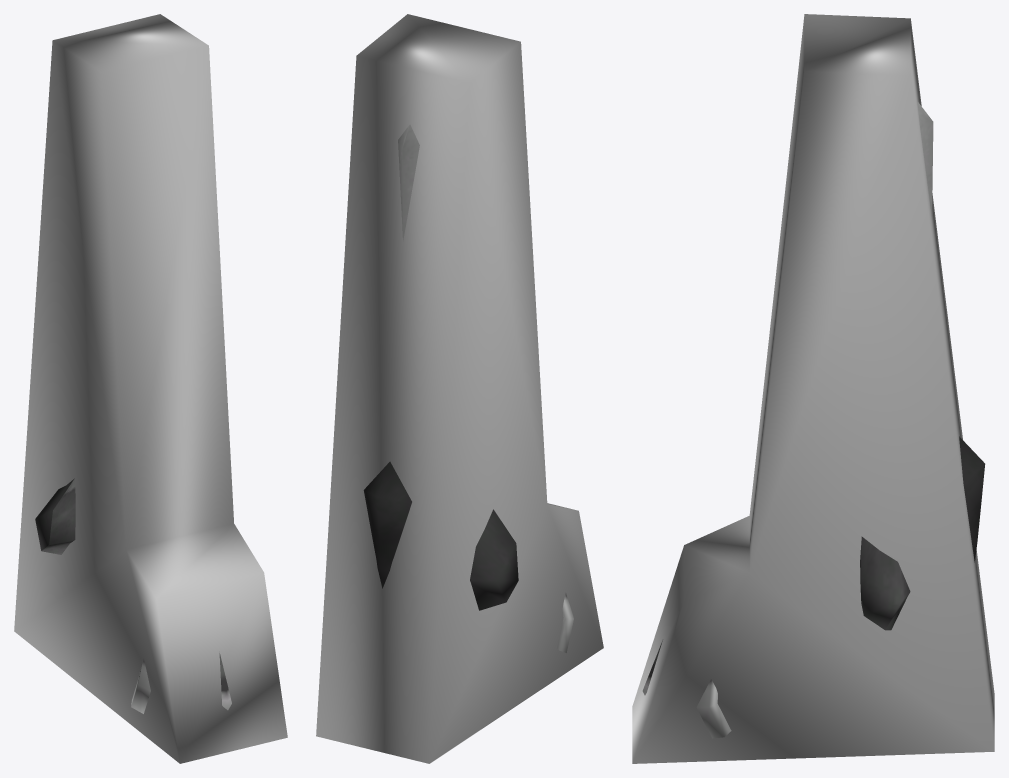
File: pulseCannon.fbx
3 views of the same model, side by side, from view 1: azimuth 30°, elevation 25°; view 2: azimuth 150°, elevation 25°; view 3: azimuth 270°, elevation 25° (orthographic). The views are drawn at different scales.
Parts seen in each view (by area): view 1: 0000_pulseCannon, 0001_pulseCannon; view 2: 0000_pulseCannon, 0001_pulseCannon; view 3: 0000_pulseCannon, 0001_pulseCannon.
Boxes of the visible parts, x1,y1,x2,y2 form: 0000_pulseCannon: (14, 14, 287, 763); 0001_pulseCannon: (35, 478, 231, 713); 0000_pulseCannon: (316, 14, 603, 763); 0001_pulseCannon: (363, 124, 573, 652); 0000_pulseCannon: (632, 14, 994, 763); 0001_pulseCannon: (642, 102, 985, 738).
Bounding box in the file's own units: 1.28 × 5.04 × 2.33.
